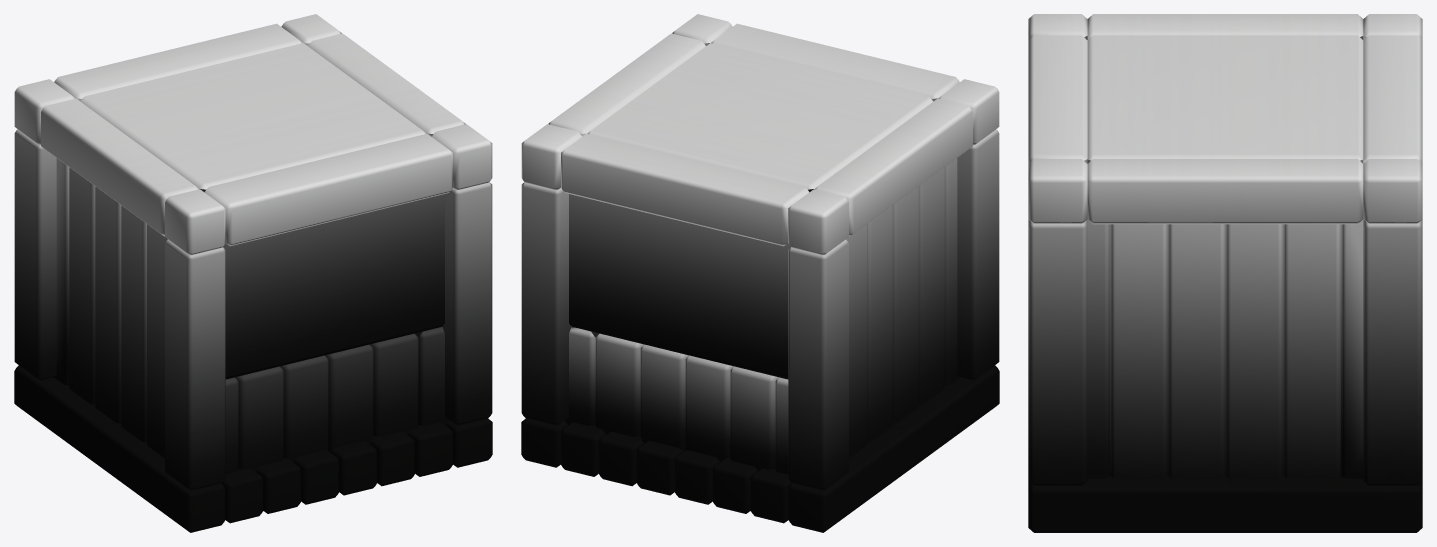
File: SM_Wood_Body_01.fbx
3 views of the same model, side by side, from view 1: azimuth 30°, elevation 25°; view 2: azimuth 150°, elevation 25°; view 3: azimuth 270°, elevation 25° (orthographic). The views are drawn at different scales.
Parts seen in each view (by area): view 1: SM_Wood_Body_01; view 2: SM_Wood_Body_01; view 3: SM_Wood_Body_01.
Boxes of the visible parts, <box> form: SM_Wood_Body_01: <box>14,14,492,532</box>; SM_Wood_Body_01: <box>521,14,999,532</box>; SM_Wood_Body_01: <box>1028,14,1422,532</box>.
Bounding box in the file's own units: 0.9999 × 0.9999 × 0.9999.
